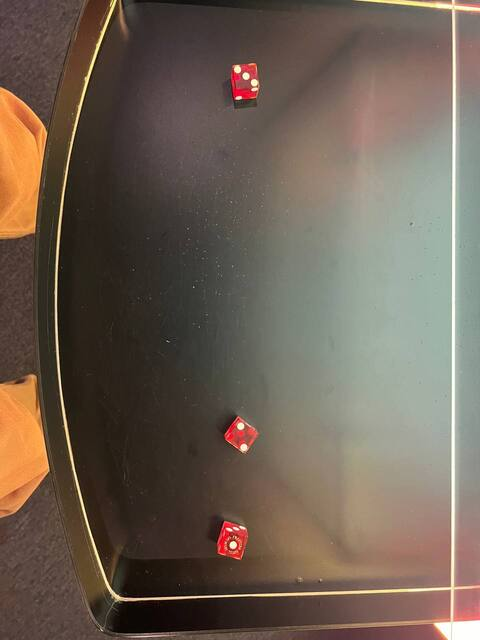one: (213, 530, 252, 563)
three: (226, 59, 261, 89)
two: (220, 412, 264, 456)
